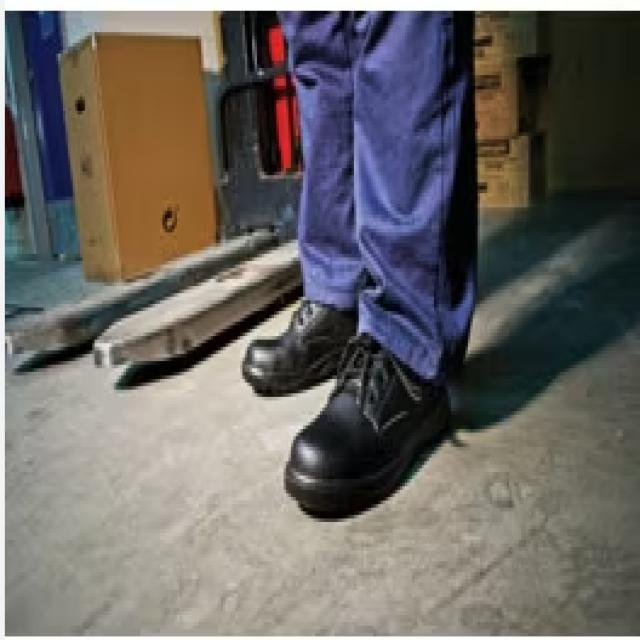helmet: (239, 262, 463, 523)
